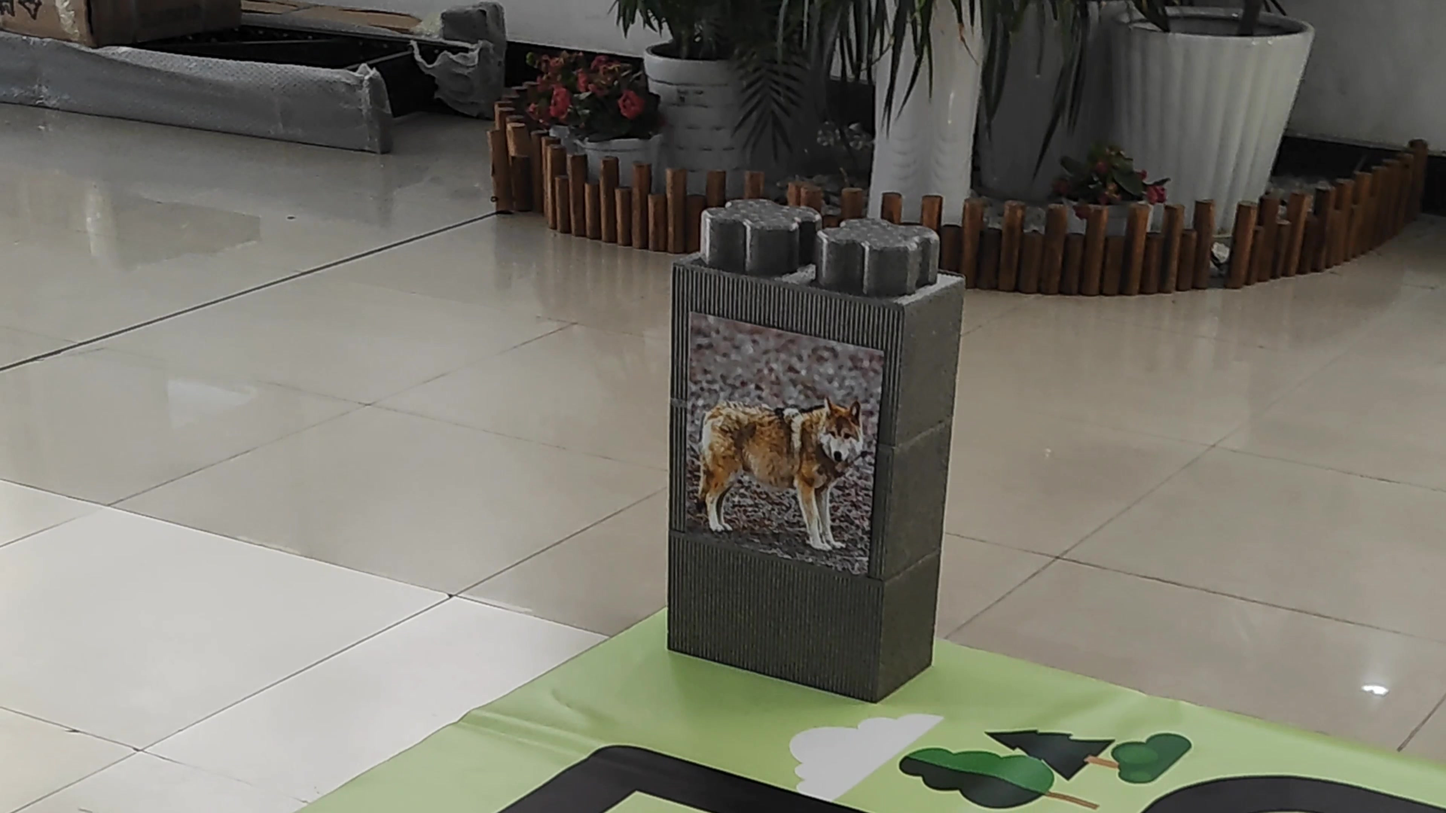wolf: (679, 382, 872, 578)
